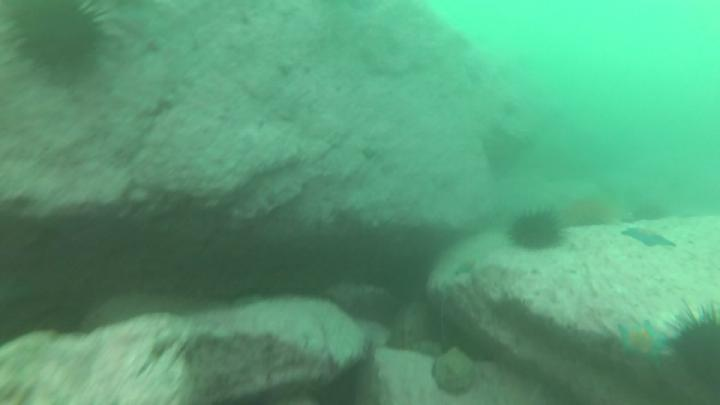echinus: (1, 1, 113, 86), (665, 300, 720, 405), (507, 203, 570, 252)
starfish: (615, 318, 670, 374), (620, 224, 678, 254)
